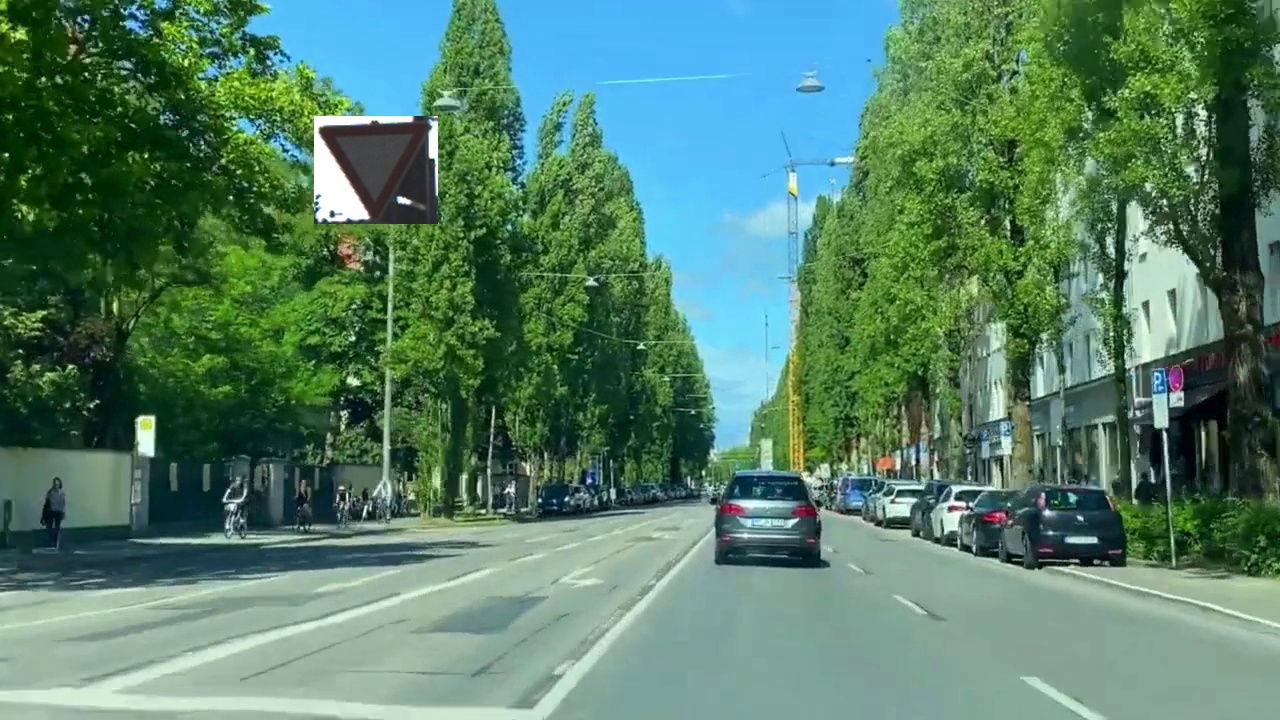Yield: (314, 116, 438, 224)
